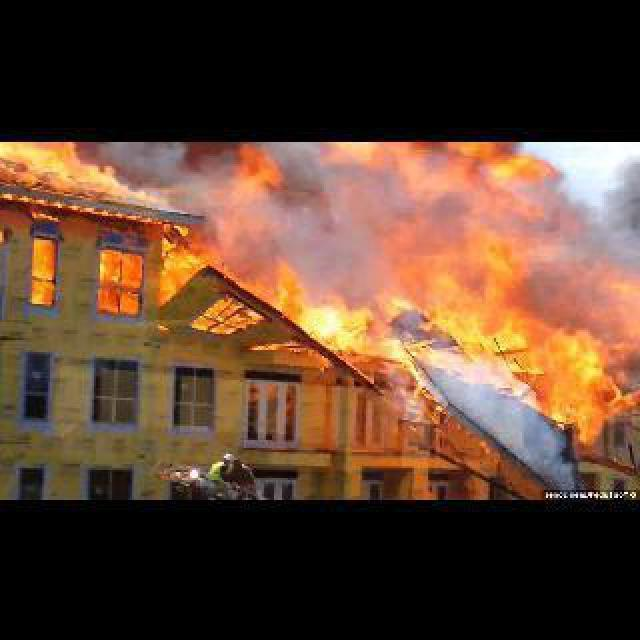Fire: (4, 142, 638, 352)
Smoke: (418, 352, 572, 490)
